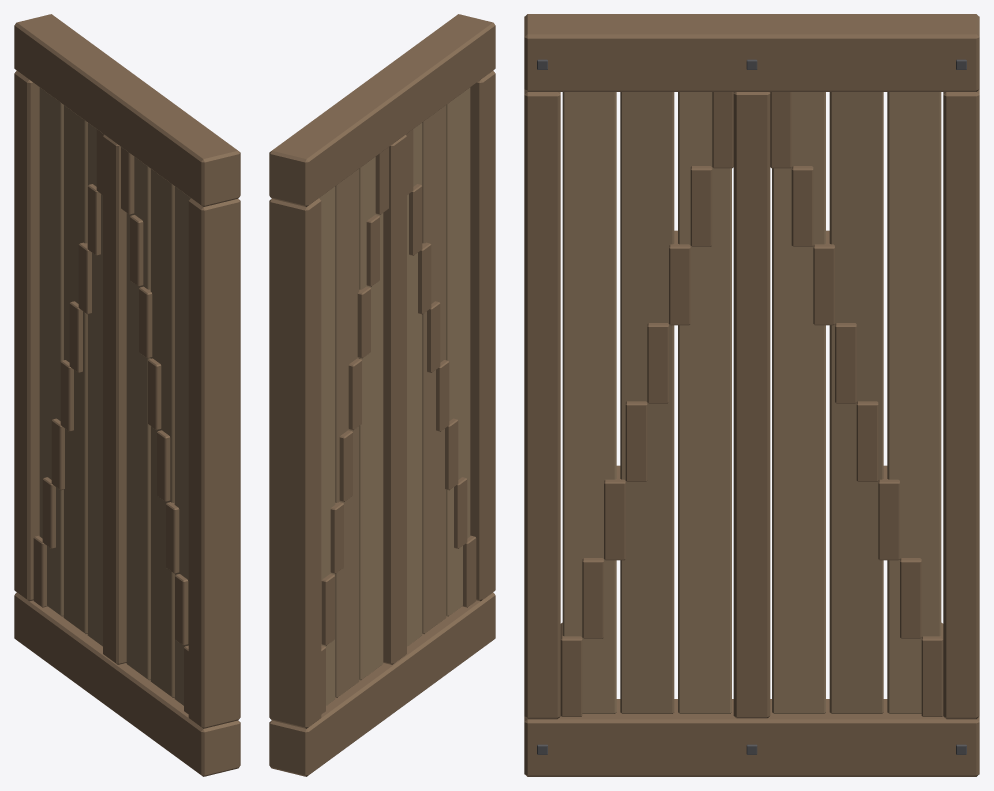
Rendered from wooden_wall.glb.
The picture shows the model from 3 angles, left to right: view 1: azimuth 30°, elevation 25°; view 2: azimuth 150°, elevation 25°; view 3: azimuth 270°, elevation 25°; orthographic projection. The views are drawn at different scales.
Visible parts, largest first — view 1: WoodenWall; view 2: WoodenWall; view 3: WoodenWall.
Part boxes in pixels (x1,y1,x2,y2): WoodenWall: (14,14,240,776); WoodenWall: (269,14,495,776); WoodenWall: (524,14,979,776).
Bounding box in the file's own units: 0.125 × 1.8 × 1.
